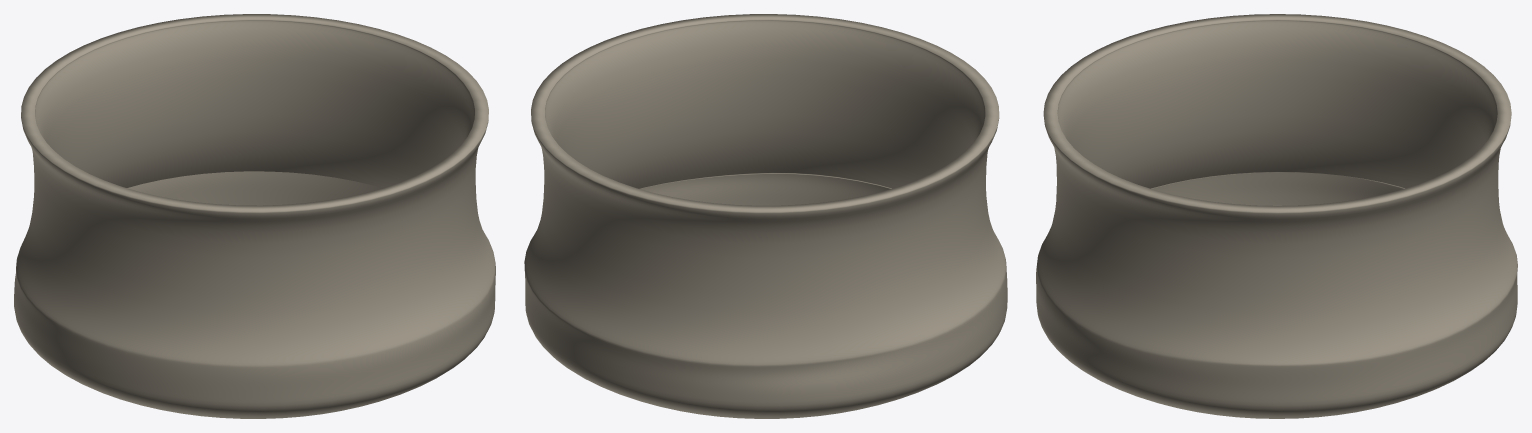
Rendered from cuencaMuseoCla.glb.
3 renders of one model, left to right at view 1: azimuth 30°, elevation 25°; view 2: azimuth 150°, elevation 25°; view 3: azimuth 270°, elevation 25°, orthographic.
Visible parts, largest first — view 1: Cilindro; view 2: Cilindro; view 3: Cilindro.
Part boxes in pixels (x1,y1,x2,y2): Cilindro: (14,14,495,418); Cilindro: (524,14,1007,418); Cilindro: (1036,14,1517,418).
Bounding box in the file's own units: 1.04 × 0.5295 × 1.04.
